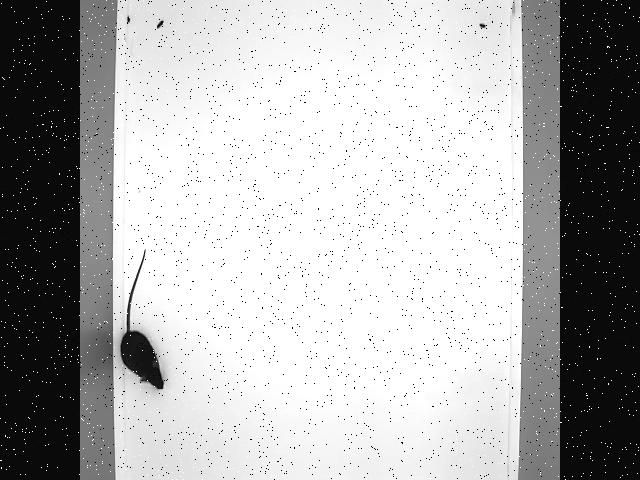Tikus: (119, 248, 164, 388)
